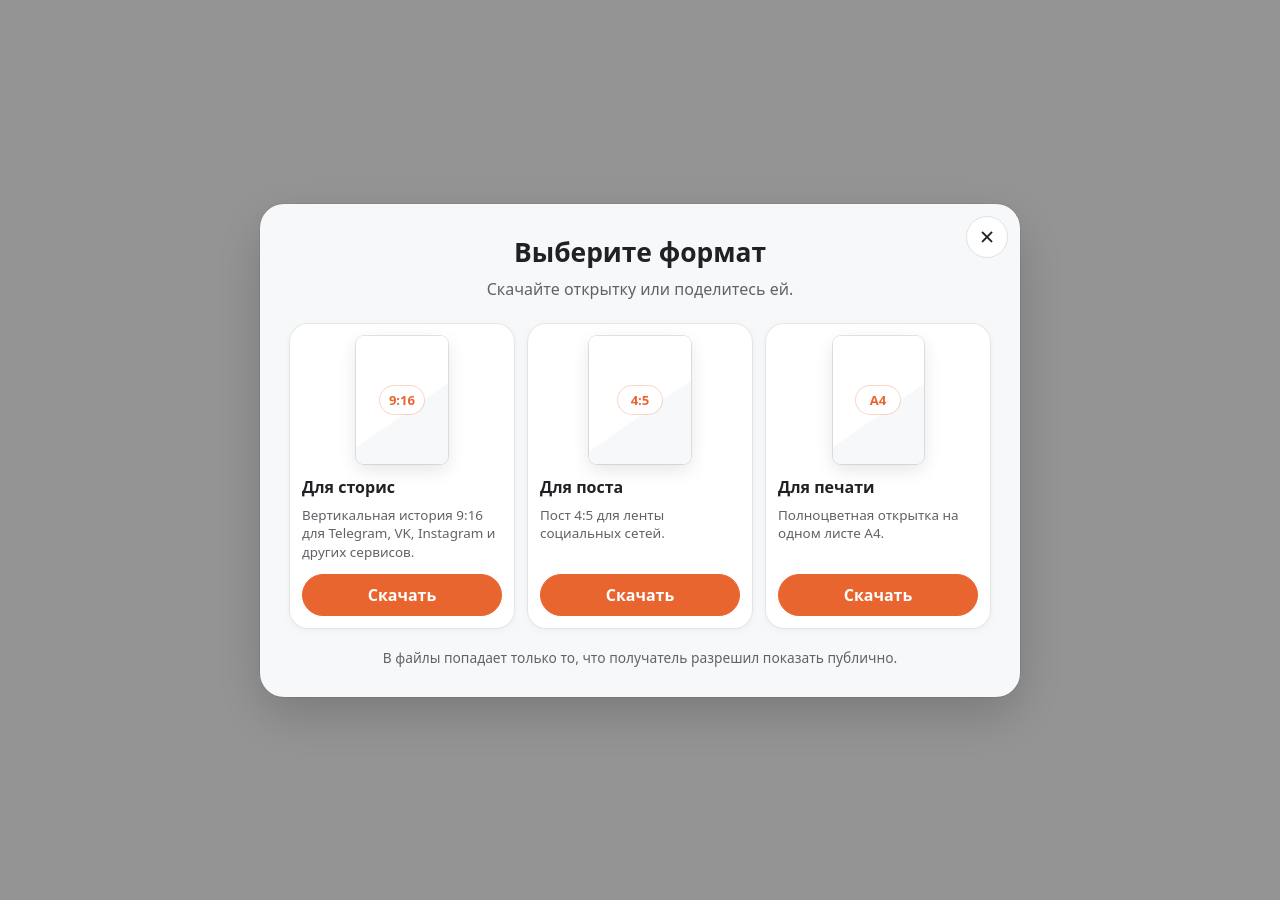
Test: PublicShareDownloadDialog › returns the selected button to Download and shows the server error
Step 1. Click the button "Скачать" below "Для сторис" → (402, 594), box [302,574,502,616]
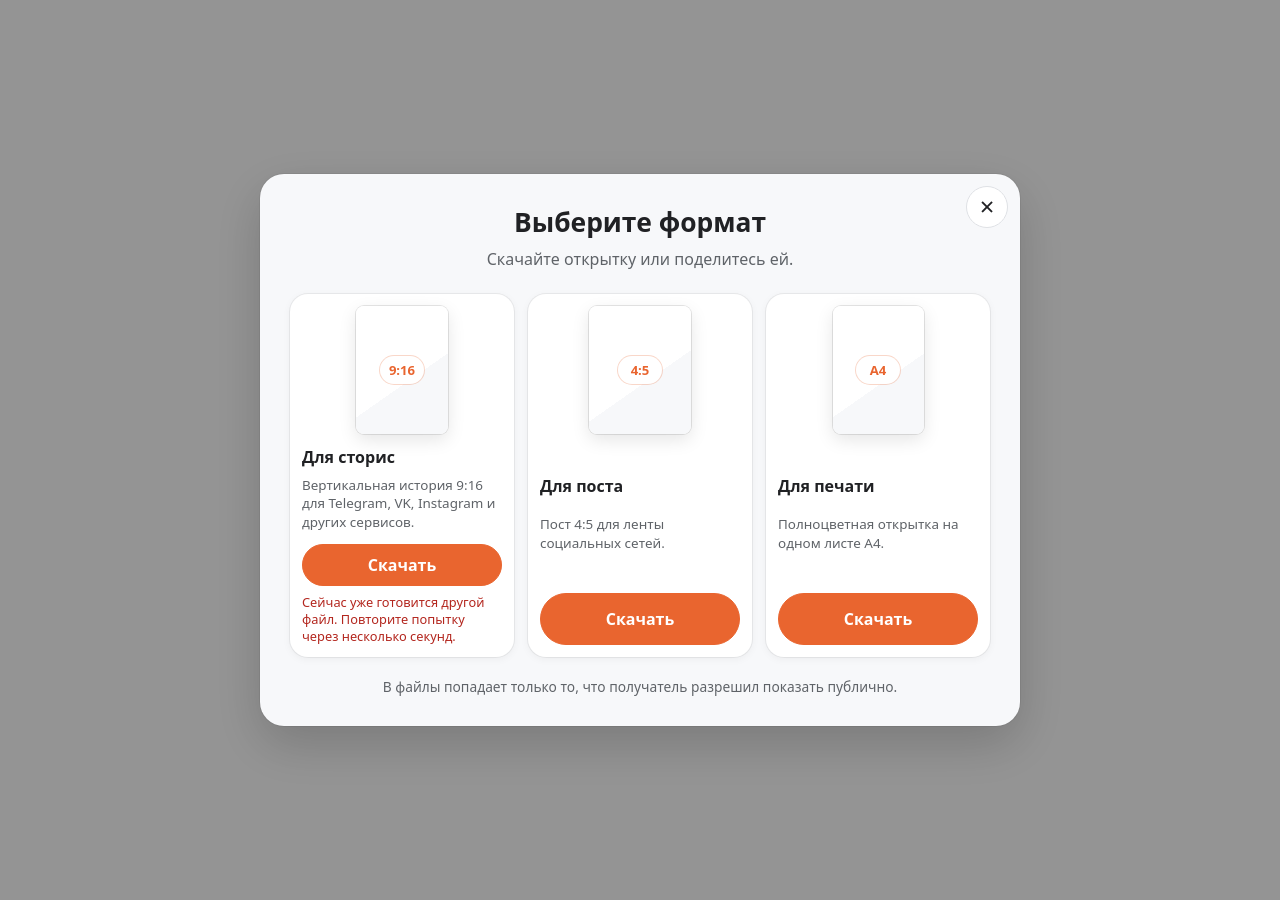
Check: the number of buttons "Скачать" is 3, box [302,544,502,586]; [540,593,740,645]; [778,593,978,645]
Check: the message shows "Сейчас уже готовится другой файл", box [302,593,484,645]
